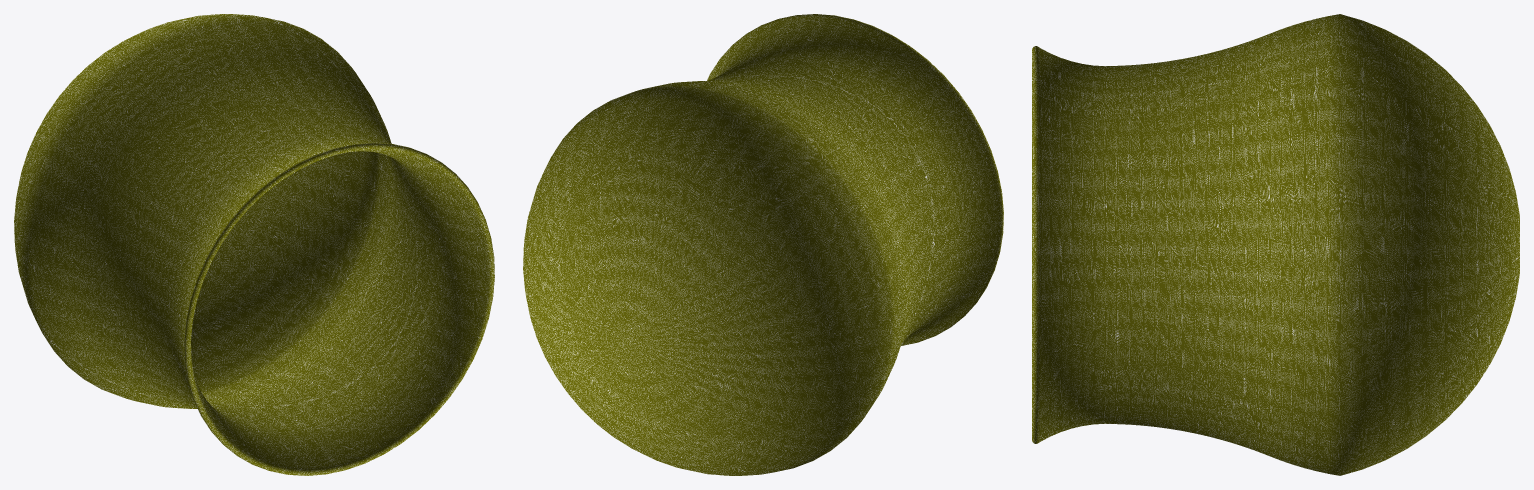
Rendered from model_align.obj.
3 renders of one model, left to right at view 1: azimuth 30°, elevation 25°; view 2: azimuth 150°, elevation 25°; view 3: azimuth 270°, elevation 25°, orthographic. The views are drawn at different scales.
Parts seen in each view (by area): view 1: mesh1_mesh1-geometry; view 2: mesh1_mesh1-geometry; view 3: mesh1_mesh1-geometry.
Boxes of the visible parts, x1,y1,x2,y2 form: mesh1_mesh1-geometry: (14, 14, 494, 475); mesh1_mesh1-geometry: (523, 14, 1003, 475); mesh1_mesh1-geometry: (1032, 14, 1519, 475).
Bounding box in the file's own units: 0.1655 × 0.1655 × 0.1748.
